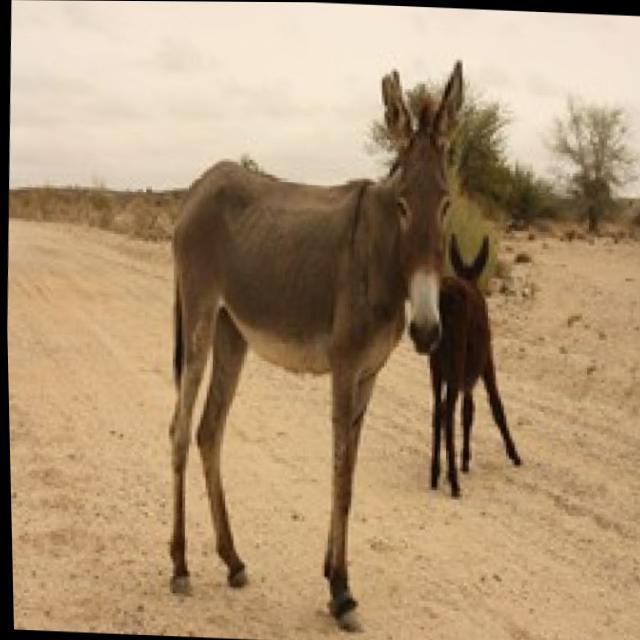Donkey: (153, 44, 478, 636), (420, 228, 530, 498)
